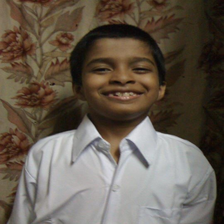no_mask: (87, 40, 156, 117)
